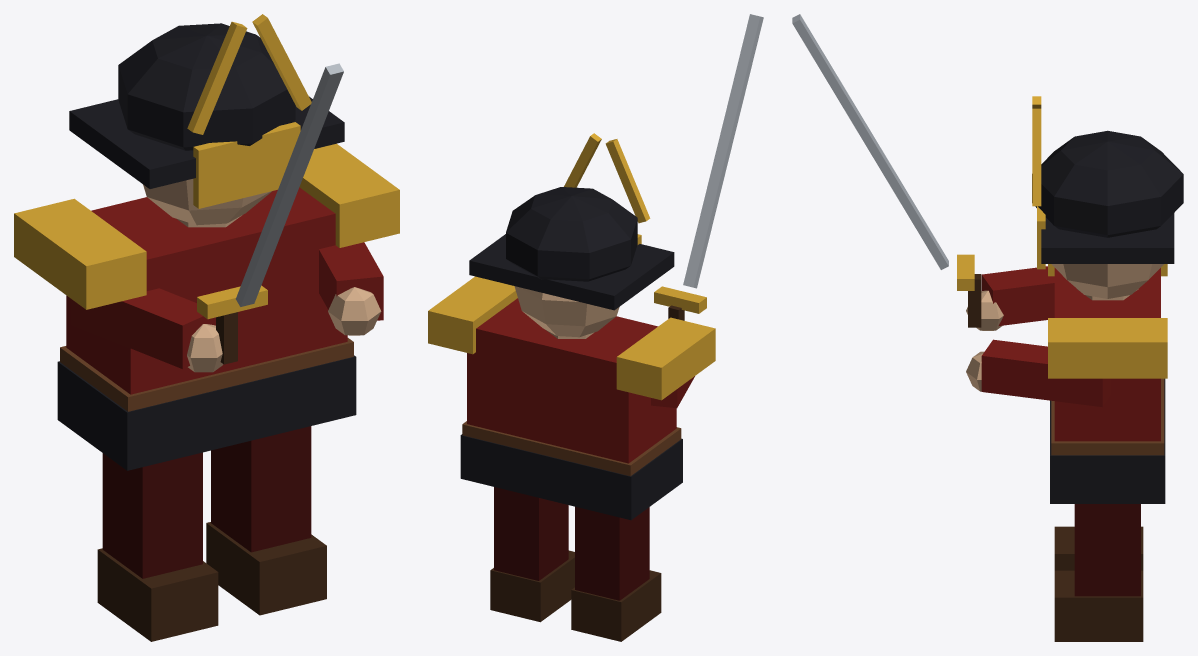
The model's file is b_shogun.fbx.
3 views of the same model, side by side, from view 1: azimuth 30°, elevation 25°; view 2: azimuth 150°, elevation 25°; view 3: azimuth 270°, elevation 25° (orthographic). The views are drawn at different scales.
Visible parts, largest first — view 1: b_shogun_Body, b_shogun_LegR, b_shogun_LegL, b_shogun_ArmR, b_shogun_ArmL; view 2: b_shogun_Body, b_shogun_LegR, b_shogun_LegL, b_shogun_ArmR; view 3: b_shogun_Body, b_shogun_LegL, b_shogun_ArmR, b_shogun_ArmL, b_shogun_LegR.
Part boxes in pixels (x1,y1,x2,y2): b_shogun_Body: (14,14,399,470); b_shogun_LegR: (97,452,218,641); b_shogun_LegL: (206,426,326,615); b_shogun_ArmR: (71,63,343,372); b_shogun_ArmL: (319,242,383,335); b_shogun_Body: (428,133,715,520); b_shogun_LegR: (571,506,661,641); b_shogun_LegL: (490,487,574,622); b_shogun_ArmR: (651,14,763,408); b_shogun_Body: (1032,96,1183,503); b_shogun_LegL: (1054,504,1143,641); b_shogun_ArmR: (792,14,1054,330); b_shogun_ArmL: (966,339,1111,407); b_shogun_LegR: (1054,526,1143,570).
Size of the model in its own units: 0.676 by 1.41 by 0.8828.
